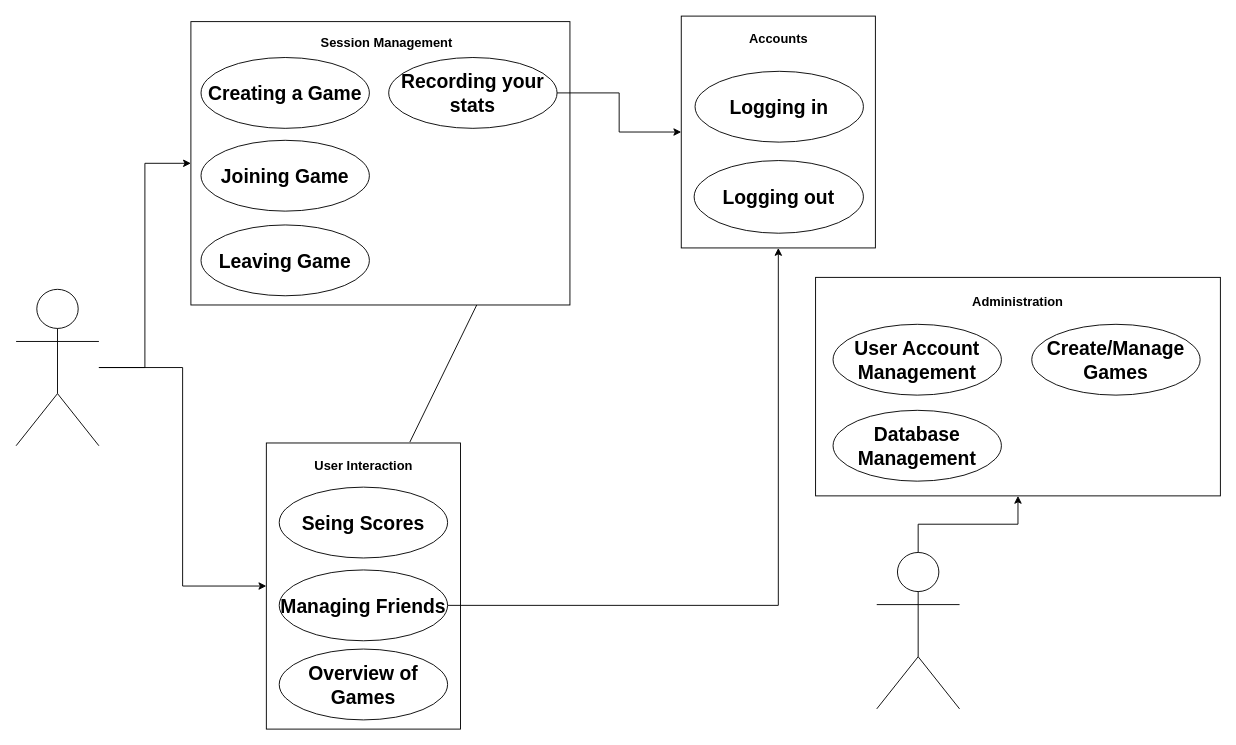
Image size: 1236x745. Some labels were removed from this diagram. Here are the shapes that lost their labels. From the top down, the centre of each, then its label:
At pixel 57 367: "Customer".
At pixel 918 630: "Admin".
